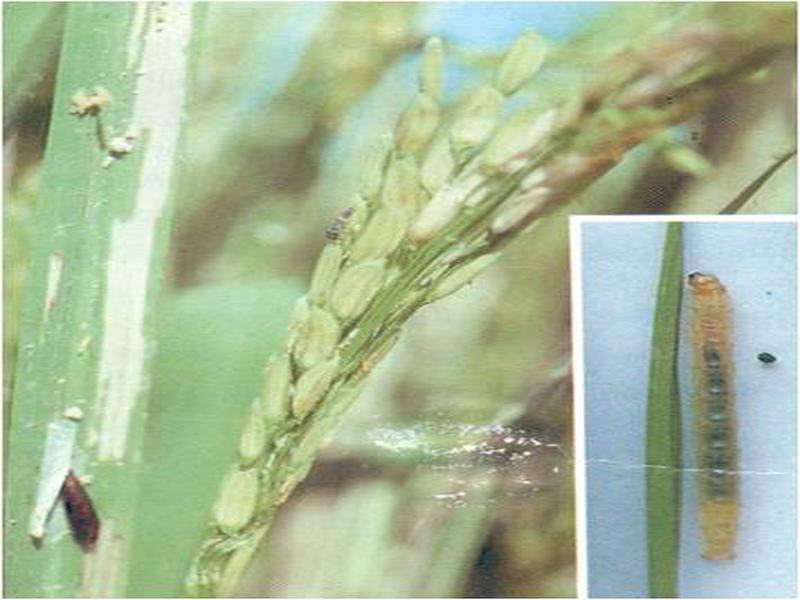Leaf_folder: (676, 261, 765, 574), (284, 184, 382, 253), (47, 467, 119, 560)
